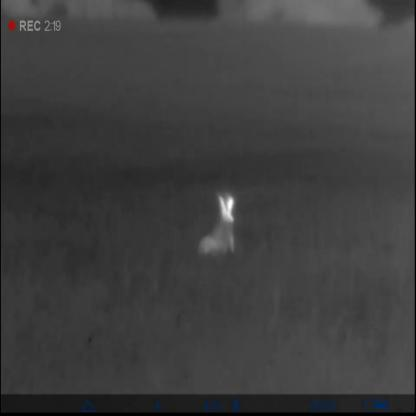rehkitze: (197, 193, 240, 263)
